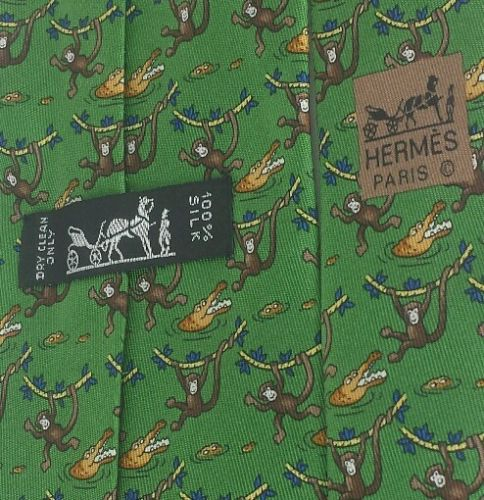HERMES: (355, 75, 470, 194)
